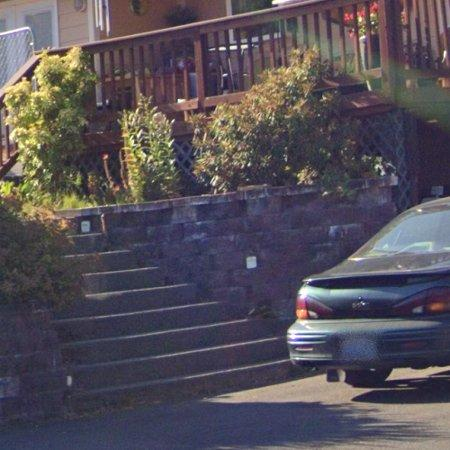stairs: (54, 236, 290, 415)
